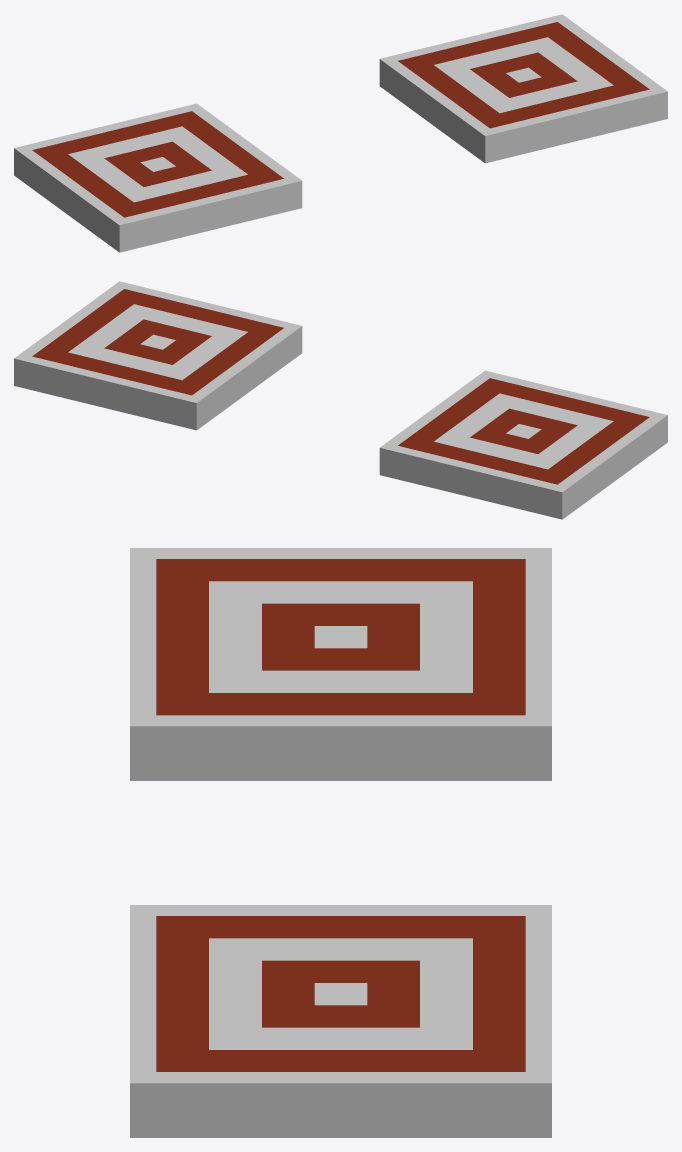
File: prefab_gap.fbx
3 renders of one model, top to bottom at view 1: azimuth 30°, elevation 25°; view 2: azimuth 150°, elevation 25°; view 3: azimuth 270°, elevation 25°, orthographic. The views are drawn at different scales.
Parts seen in each view (by area): view 1: platform; view 2: platform; view 3: platform.
Part boxes in pixels (x1=…): platform: x1=14, y1=14, x2=667, y2=252; platform: x1=14, y1=281, x2=667, y2=519; platform: x1=130, y1=548, x2=551, y2=1137.
Bounding box in the file's own units: 600 × 28.6 × 200.
